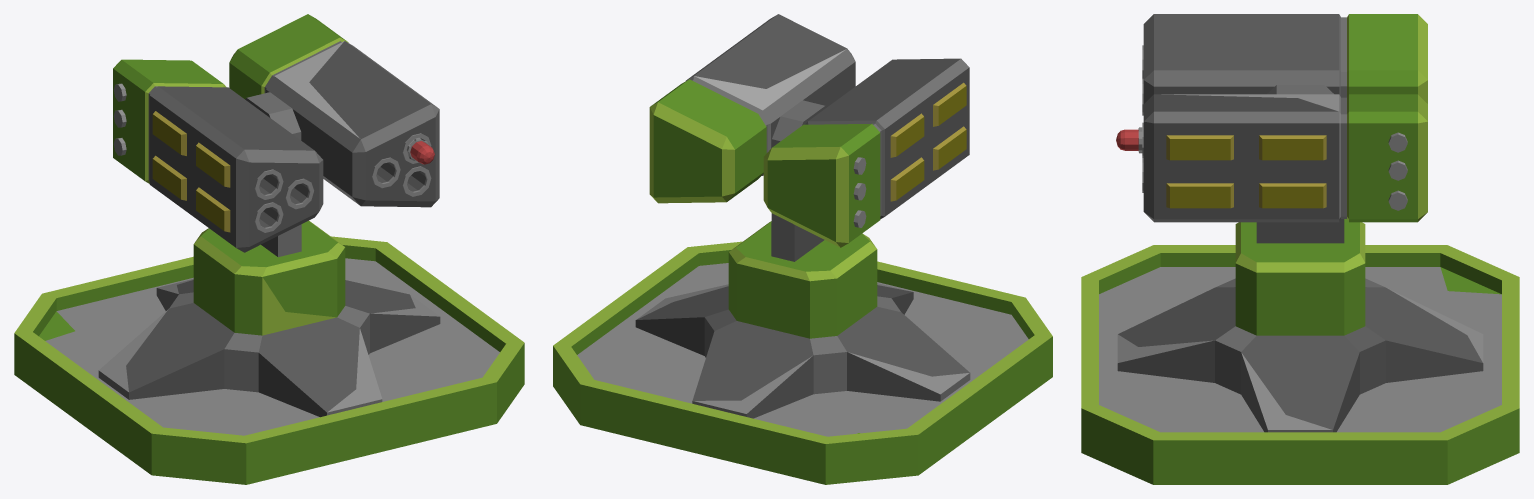
File: tower_rocket_green_1.fbx
3 renders of one model, left to right at view 1: azimuth 30°, elevation 25°; view 2: azimuth 150°, elevation 25°; view 3: azimuth 270°, elevation 25°, orthographic. The views are drawn at different scales.
Visible parts, largest first — view 1: top_rocket_green_1, tower_rocket_green_1, rocket_green_1; view 2: top_rocket_green_1, tower_rocket_green_1; view 3: top_rocket_green_1, tower_rocket_green_1, rocket_green_1.
Boxes of the visible parts, x1,y1,x2,y2 form: top_rocket_green_1: [98, 14, 440, 417]; tower_rocket_green_1: [14, 236, 524, 484]; rocket_green_1: [406, 137, 434, 164]; top_rocket_green_1: [635, 14, 970, 418]; tower_rocket_green_1: [553, 241, 1052, 484]; top_rocket_green_1: [1117, 14, 1483, 432]; tower_rocket_green_1: [1081, 245, 1519, 484]; rocket_green_1: [1116, 127, 1142, 153].
Bounding box in the file's own units: 158 × 123 × 150.
